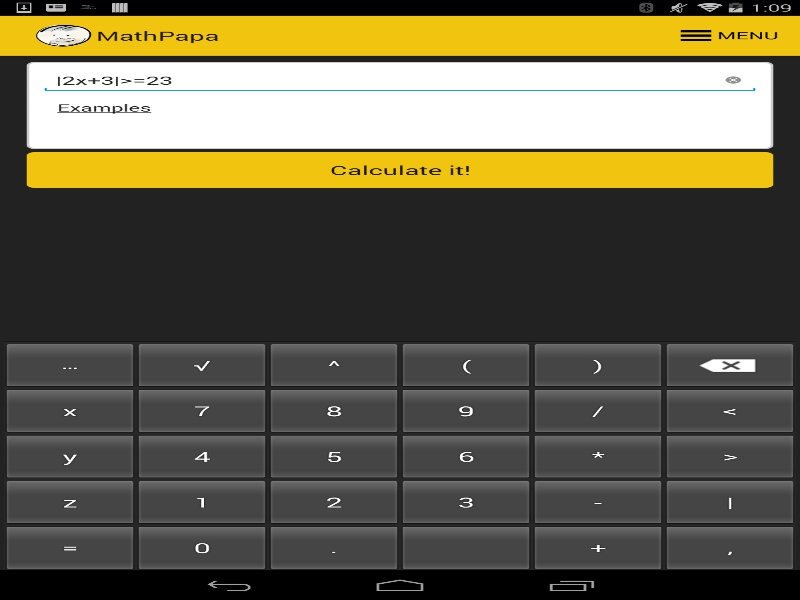Button: (26, 152, 773, 187), (45, 92, 162, 122)
Input: (40, 68, 760, 92)
